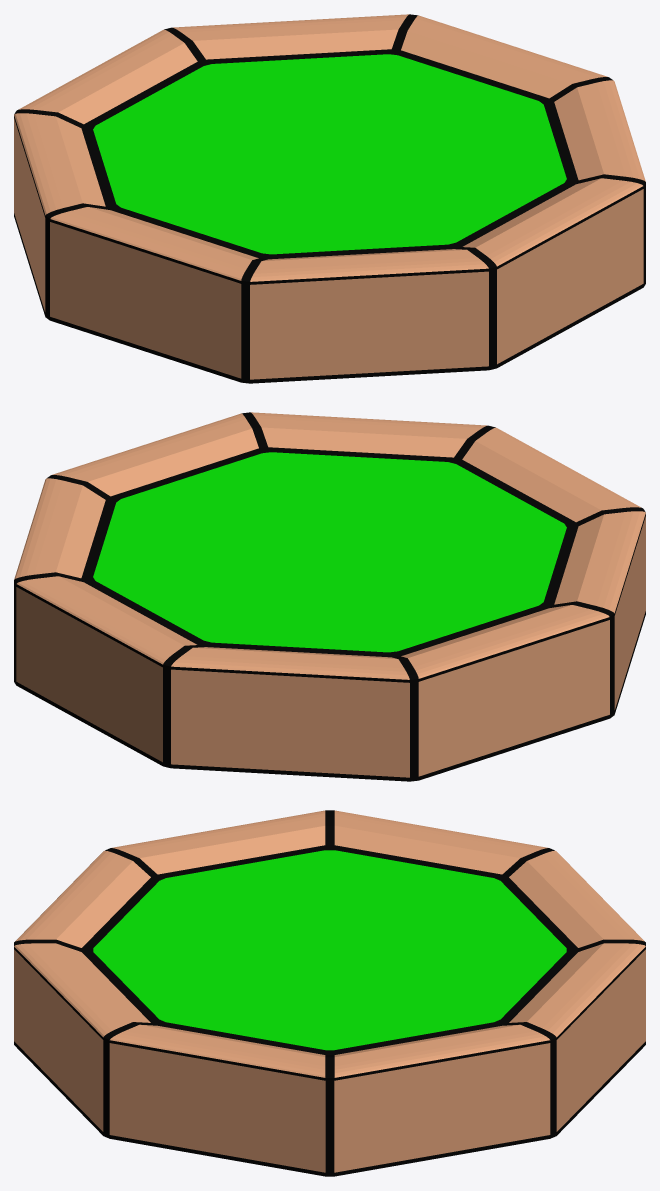
File: GhostPlatform.fbx
The picture shows the model from 3 angles, top to bottom: view 1: azimuth 30°, elevation 25°; view 2: azimuth 150°, elevation 25°; view 3: azimuth 270°, elevation 25°; orthographic projection. The views are drawn at different scales.
Parts seen in each view (by area): view 1: Cylinder.011; view 2: Cylinder.011; view 3: Cylinder.011.
Boxes of the visible parts, left/top/right/bottom form: Cylinder.011: left=14, top=14, right=645, bottom=383; Cylinder.011: left=14, top=412, right=645, bottom=781; Cylinder.011: left=14, top=810, right=645, bottom=1176.
Bounding box in the file's own units: 296 × 52.55 × 296.
